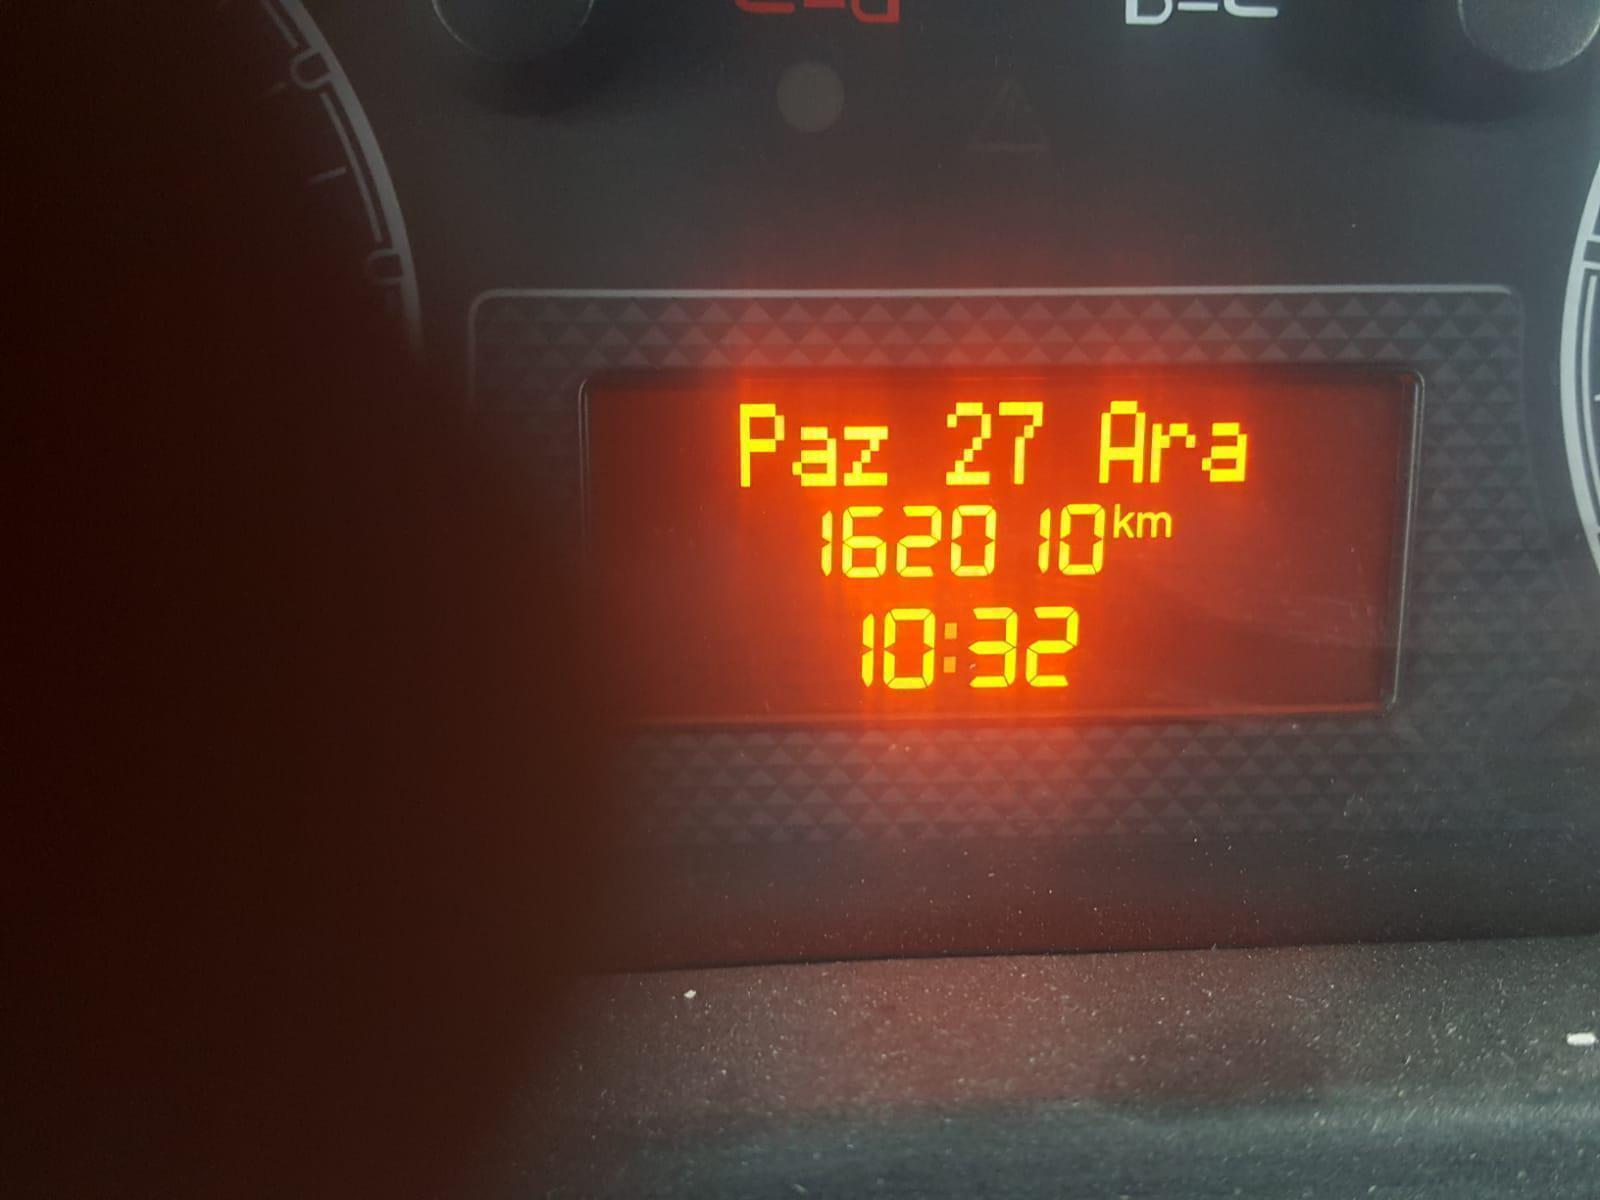0: (879, 605, 939, 695), (1056, 500, 1105, 580), (947, 503, 1000, 576)
1: (857, 606, 878, 691), (1033, 502, 1053, 580), (819, 502, 838, 581)
2: (940, 393, 997, 490), (1026, 600, 1078, 689), (894, 499, 944, 579)
3: (968, 603, 1022, 691)
6: (843, 500, 889, 581)
7: (995, 395, 1051, 490)
X: (734, 400, 790, 488), (1094, 398, 1149, 487), (1199, 415, 1255, 488), (1145, 413, 1198, 485), (839, 420, 894, 488), (786, 422, 837, 487), (936, 614, 964, 678), (1136, 509, 1175, 543), (1109, 500, 1135, 542)
odometer: (581, 368, 1409, 713)
